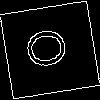O: (24, 24, 76, 71)
